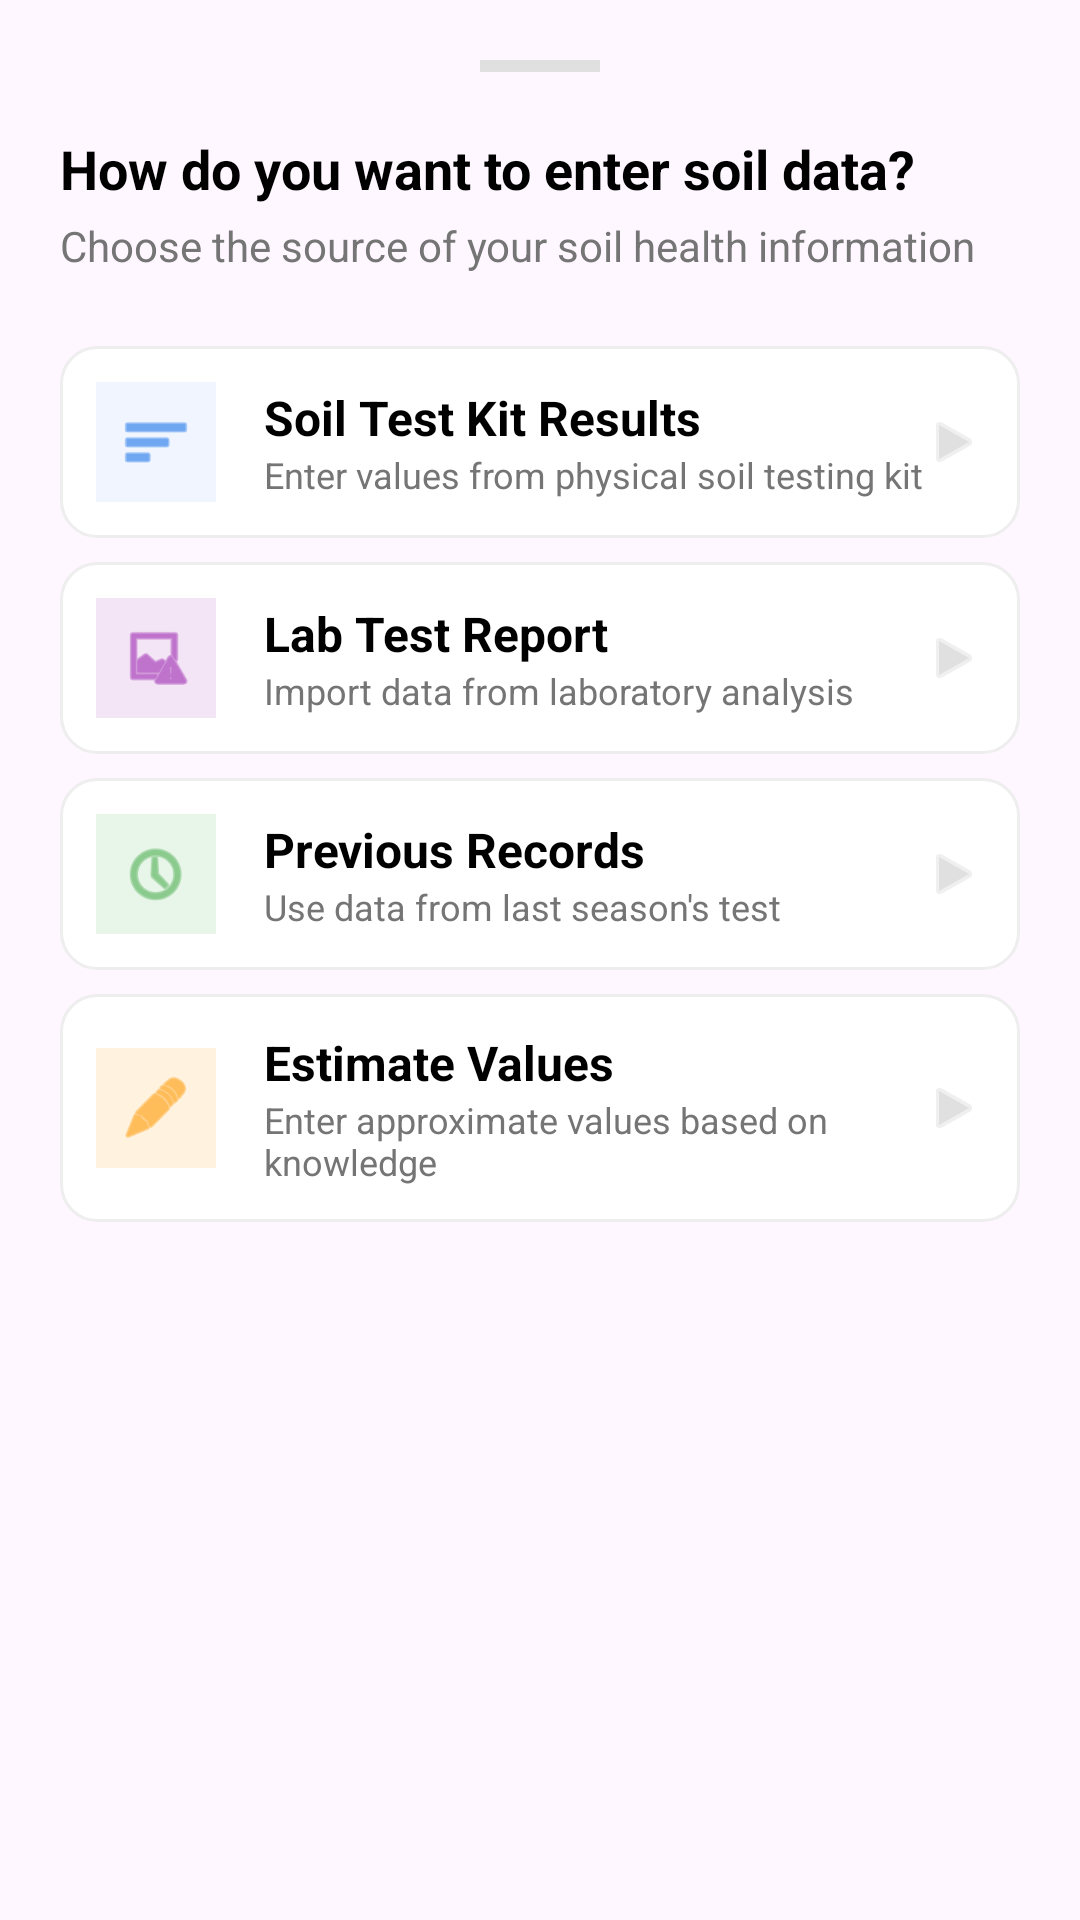

Icon click points for this 1080w x 1920h phone screenshot, format (x,y):
edit: (156,1108)
play: (953,442), (953,658), (953,874), (953,1108)
recent history: (156,874)
sort by size: (156,442)
